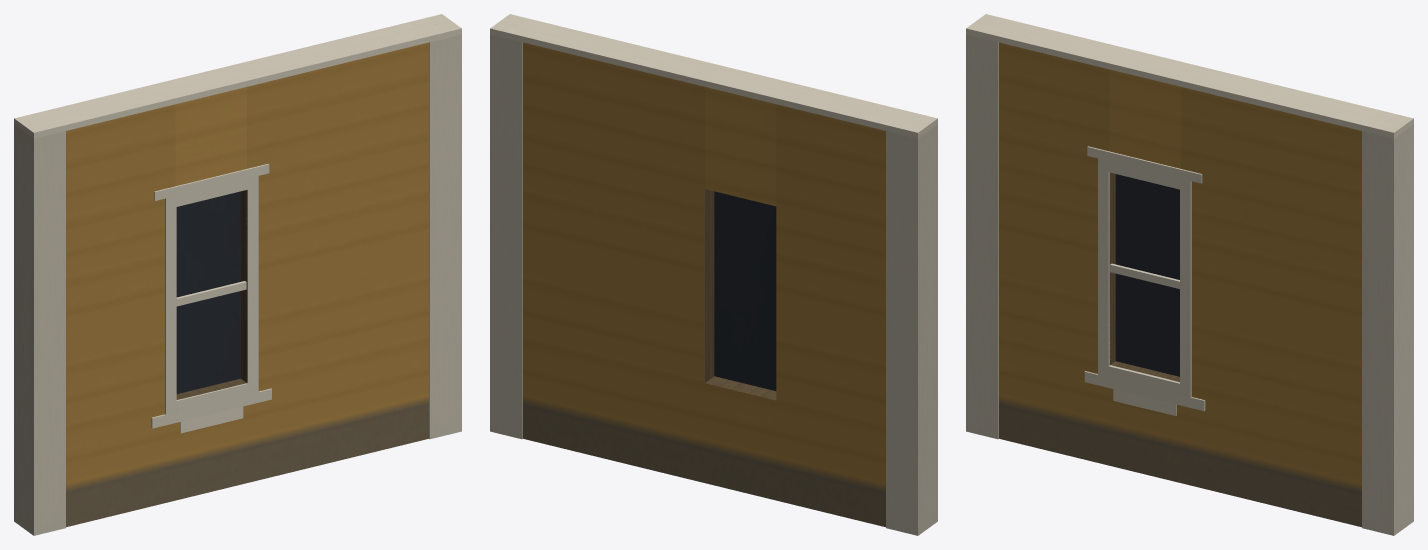
Rendered from house_03_wall_window.glb.
The picture shows the model from 3 angles, left to right: view 1: azimuth 30°, elevation 25°; view 2: azimuth 150°, elevation 25°; view 3: azimuth 330°, elevation 25°; orthographic projection.
Visible parts, largest first — view 1: outdoor_house_03_wall_window; view 2: outdoor_house_03_wall_window; view 3: outdoor_house_03_wall_window.
Boxes of the visible parts, <box> form: outdoor_house_03_wall_window: <box>14,14,461,535</box>; outdoor_house_03_wall_window: <box>490,14,937,535</box>; outdoor_house_03_wall_window: <box>966,14,1413,535</box>.
Bounding box in the file's own units: 3 × 2.7 × 0.24.
1 material, 1 textured.
